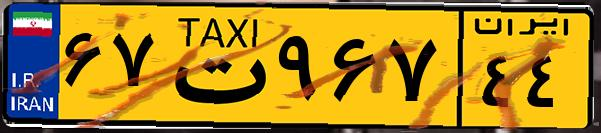4: (475, 38, 525, 113), (525, 38, 570, 115)
6: (330, 28, 385, 110), (57, 26, 110, 100)
7: (385, 28, 445, 110), (110, 28, 158, 98)
9: (270, 28, 330, 110)
ت: (158, 12, 270, 120)
